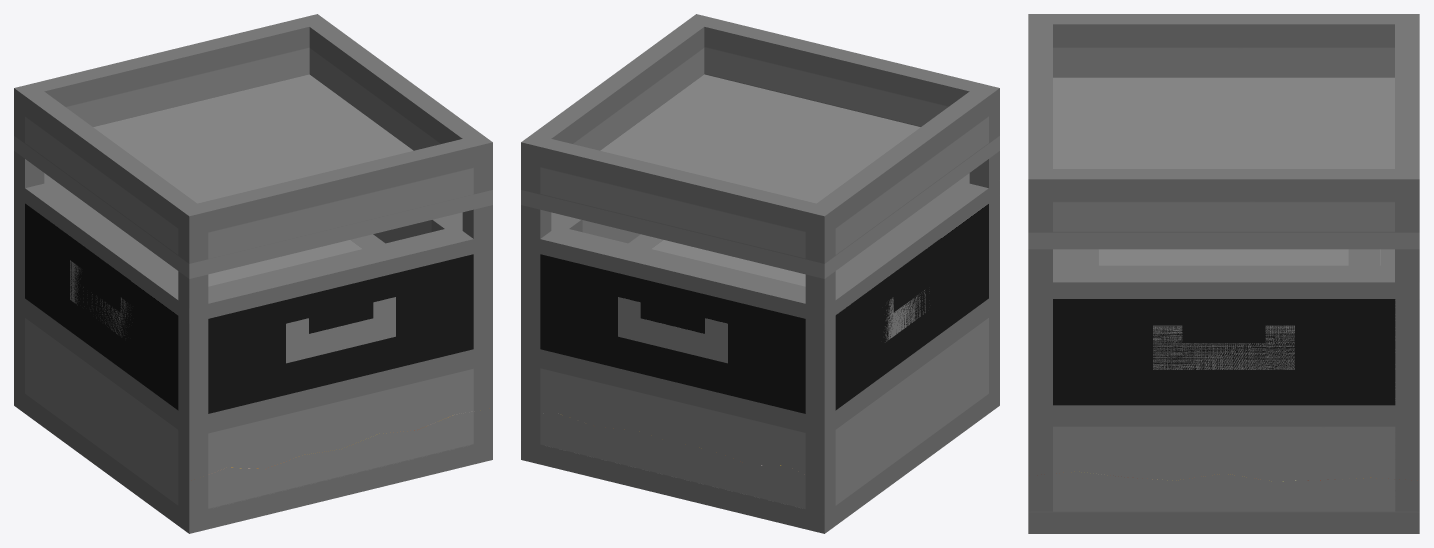
The model's file is BlockModel.obj.
3 renders of one model, left to right at view 1: azimuth 30°, elevation 25°; view 2: azimuth 150°, elevation 25°; view 3: azimuth 270°, elevation 25°, orthographic. The views are drawn at different scales.
Parts seen in each view (by area): view 1: IngotHolderBase_ALWAYS_ALL, FuelHolderWallNegY_AIR_ALL, DestroyedMetalHolderWallNegY_AIR_ALL, DestroyedMetalBasin_ALWAYS_ALL, IngotHolderRimNegY_AIR_ALL, FuelHolderWallNegX_AIR_ALL, DestroyedMetalHolderWallNegX_AIR_ALL, IngotHolderRimPosY_AIR_ALL, IngotHolderRimNegX_AIR_ALL, FuelHolderBottom_ALWAYS_ALL, IngotHolderRimPosX_AIR_ALL, DestroyedMetalBasinConnectorNegY_CONNECTED_ALL (+13 smaller); view 2: IngotHolderBase_ALWAYS_ALL, FuelHolderWallPosY_AIR_ALL, DestroyedMetalHolderWallPosY_AIR_ALL, DestroyedMetalBasin_ALWAYS_ALL, IngotHolderRimPosY_AIR_ALL, FuelHolderWallNegX_AIR_ALL, IngotHolderRimNegY_AIR_ALL, DestroyedMetalHolderWallNegX_AIR_ALL, IngotHolderRimNegX_AIR_ALL, FuelHolderBottom_ALWAYS_ALL, IngotHolderRimPosX_AIR_ALL, DestroyedMetalBasinConnectorPosY_CONNECTED_ALL (+13 smaller); view 3: IngotHolderBase_ALWAYS_ALL, FuelHolderWallPosX_AIR_ALL, DestroyedMetalHolderWallPosX_AIR_ALL, IngotHolderRimPosX_AIR_ALL, IngotHolderRimNegX_AIR_ALL, DestroyedMetalBasin_ALWAYS_ALL, FuelHolderBottom_ALWAYS_ALL, DestroyedMetalBasinConnectorPosX_CONNECTED_ALL, IngotHolderRimNegY_AIR_ALL, IngotHolderRimPosY_AIR_ALL, FuelHolderCornerPosXPosY_AIR_ALO, DestroyedMetalHolderCornerPosXNegY_AIR_ALO (+6 smaller).
Boxes of the visible parts, x1,y1,x2,y2 form: IngotHolderBase_ALWAYS_ALL: (14, 74, 492, 278); FuelHolderWallNegY_AIR_ALL: (208, 349, 473, 509); DestroyedMetalHolderWallNegY_AIR_ALL: (208, 254, 473, 413); DestroyedMetalBasin_ALWAYS_ALL: (14, 173, 492, 323); IngotHolderRimNegY_AIR_ALL: (197, 139, 473, 259); FuelHolderWallNegX_AIR_ALL: (25, 298, 178, 505); DestroyedMetalHolderWallNegX_AIR_ALL: (25, 203, 178, 410); IngotHolderRimPosY_AIR_ALL: (33, 18, 309, 126); IngotHolderRimNegX_AIR_ALL: (25, 91, 196, 255); FuelHolderBottom_ALWAYS_ALL: (14, 386, 492, 533); IngotHolderRimPosX_AIR_ALL: (309, 22, 481, 150); DestroyedMetalBasinConnectorNegY_CONNECTED_ALL: (286, 297, 395, 363); IngotHolderBase_ALWAYS_ALL: (521, 74, 999, 278); FuelHolderWallPosY_AIR_ALL: (540, 349, 805, 509); DestroyedMetalHolderWallPosY_AIR_ALL: (540, 254, 805, 413); DestroyedMetalBasin_ALWAYS_ALL: (521, 173, 999, 323); IngotHolderRimPosY_AIR_ALL: (540, 139, 816, 259); FuelHolderWallNegX_AIR_ALL: (835, 298, 988, 505); IngotHolderRimNegY_AIR_ALL: (704, 18, 980, 126); DestroyedMetalHolderWallNegX_AIR_ALL: (835, 203, 988, 410); IngotHolderRimNegX_AIR_ALL: (817, 91, 988, 255); FuelHolderBottom_ALWAYS_ALL: (521, 386, 999, 533); IngotHolderRimPosX_AIR_ALL: (532, 22, 704, 150); DestroyedMetalBasinConnectorPosY_CONNECTED_ALL: (618, 297, 727, 363); IngotHolderBase_ALWAYS_ALL: (1028, 77, 1419, 249); FuelHolderWallPosX_AIR_ALL: (1053, 405, 1395, 511); DestroyedMetalHolderWallPosX_AIR_ALL: (1053, 299, 1395, 405); IngotHolderRimPosX_AIR_ALL: (1053, 169, 1394, 232); IngotHolderRimNegX_AIR_ALL: (1053, 14, 1394, 77); DestroyedMetalBasin_ALWAYS_ALL: (1028, 249, 1419, 298); FuelHolderBottom_ALWAYS_ALL: (1028, 511, 1419, 533); DestroyedMetalBasinConnectorPosX_CONNECTED_ALL: (1153, 325, 1294, 369); IngotHolderRimNegY_AIR_ALL: (1028, 24, 1052, 168); IngotHolderRimPosY_AIR_ALL: (1395, 24, 1419, 168); FuelHolderCornerPosXPosY_AIR_ALO: (1395, 405, 1419, 511); DestroyedMetalHolderCornerPosXNegY_AIR_ALO: (1028, 299, 1052, 405).
Size of the model in its own units: 1 by 1 by 1.
